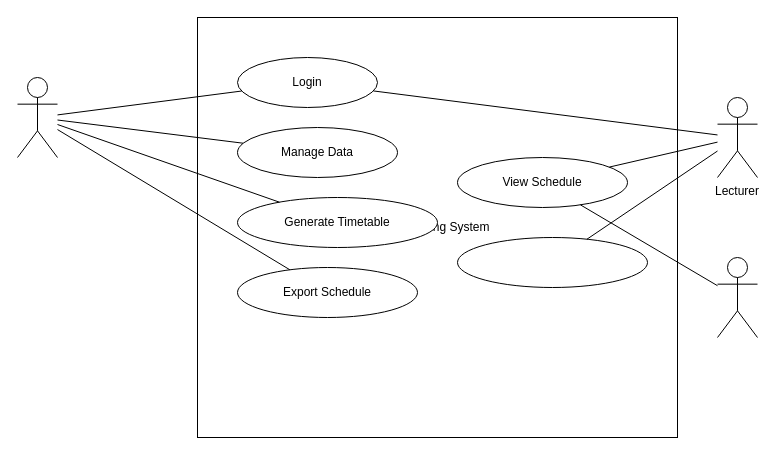
The diagram is 777 pixels wide and 455 high, and some of its shapes have lost their labels. The centre of each missing label's shape, as x and y in pixels:
"Admin" goes at pixel 37 117.
"Student" goes at pixel 737 297.
"Submit Preferences" goes at pixel 552 262.
